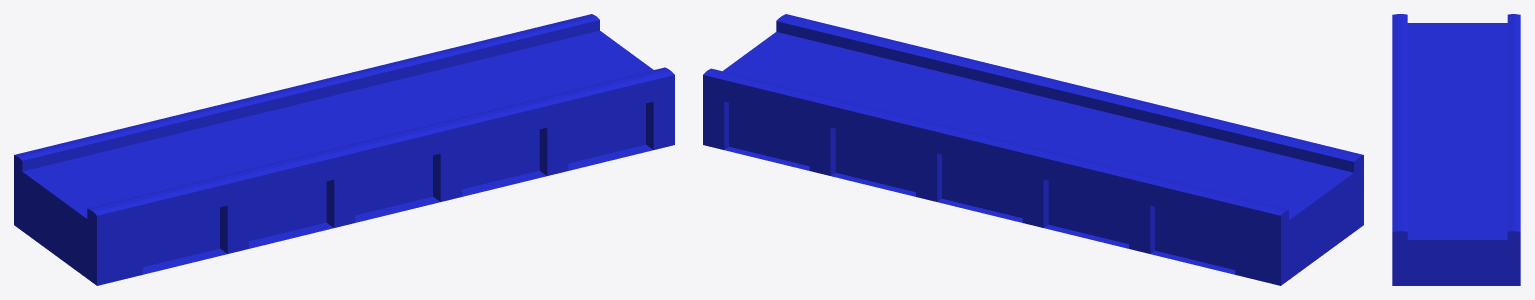
File: ancient_wall.fbx
3 views of the same model, side by side, from view 1: azimuth 30°, elevation 25°; view 2: azimuth 150°, elevation 25°; view 3: azimuth 270°, elevation 25° (orthographic). The views are drawn at different scales.
Visible parts, largest first — view 1: mur; view 2: mur; view 3: mur.
Boxes of the visible parts, left/top/right/bottom form: mur: left=14, top=14, right=674, bottom=285; mur: left=703, top=14, right=1363, bottom=285; mur: left=1392, top=14, right=1520, bottom=285.
Size of the model in its own units: 5217 by 614 by 1300.
